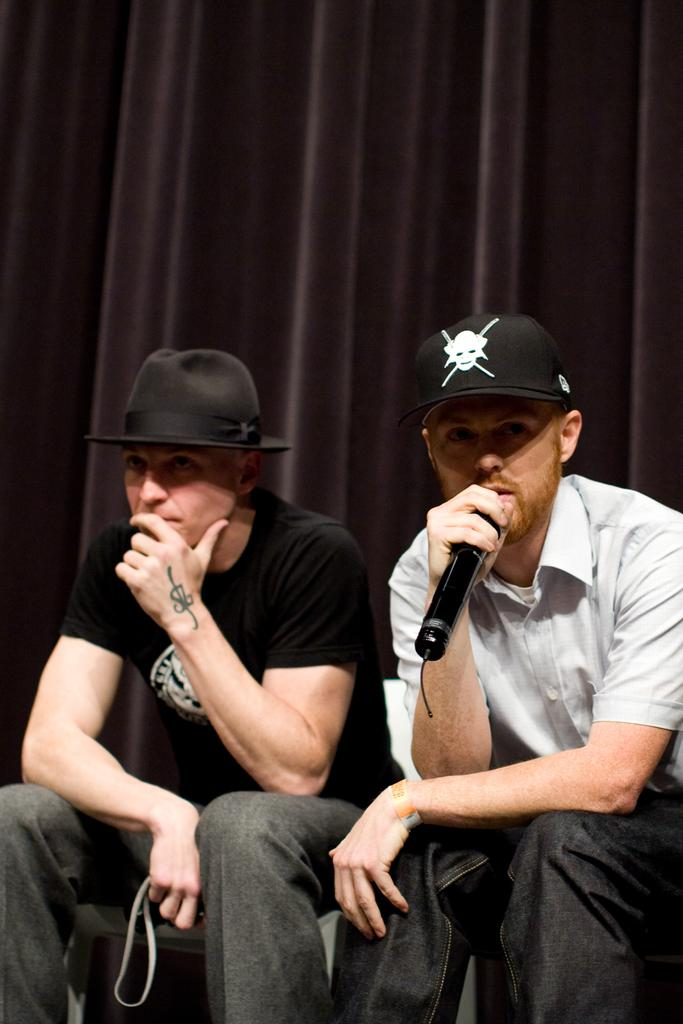Hat: (88, 346, 291, 454), (398, 312, 569, 426)
